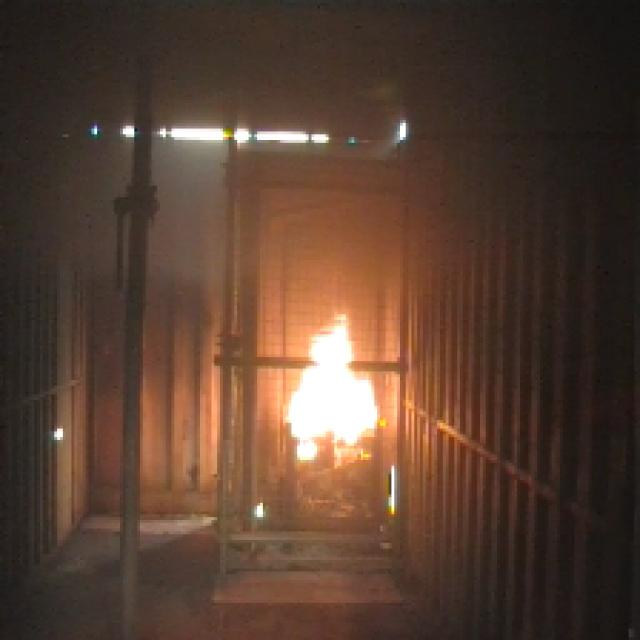fire: (282, 323, 388, 454)
